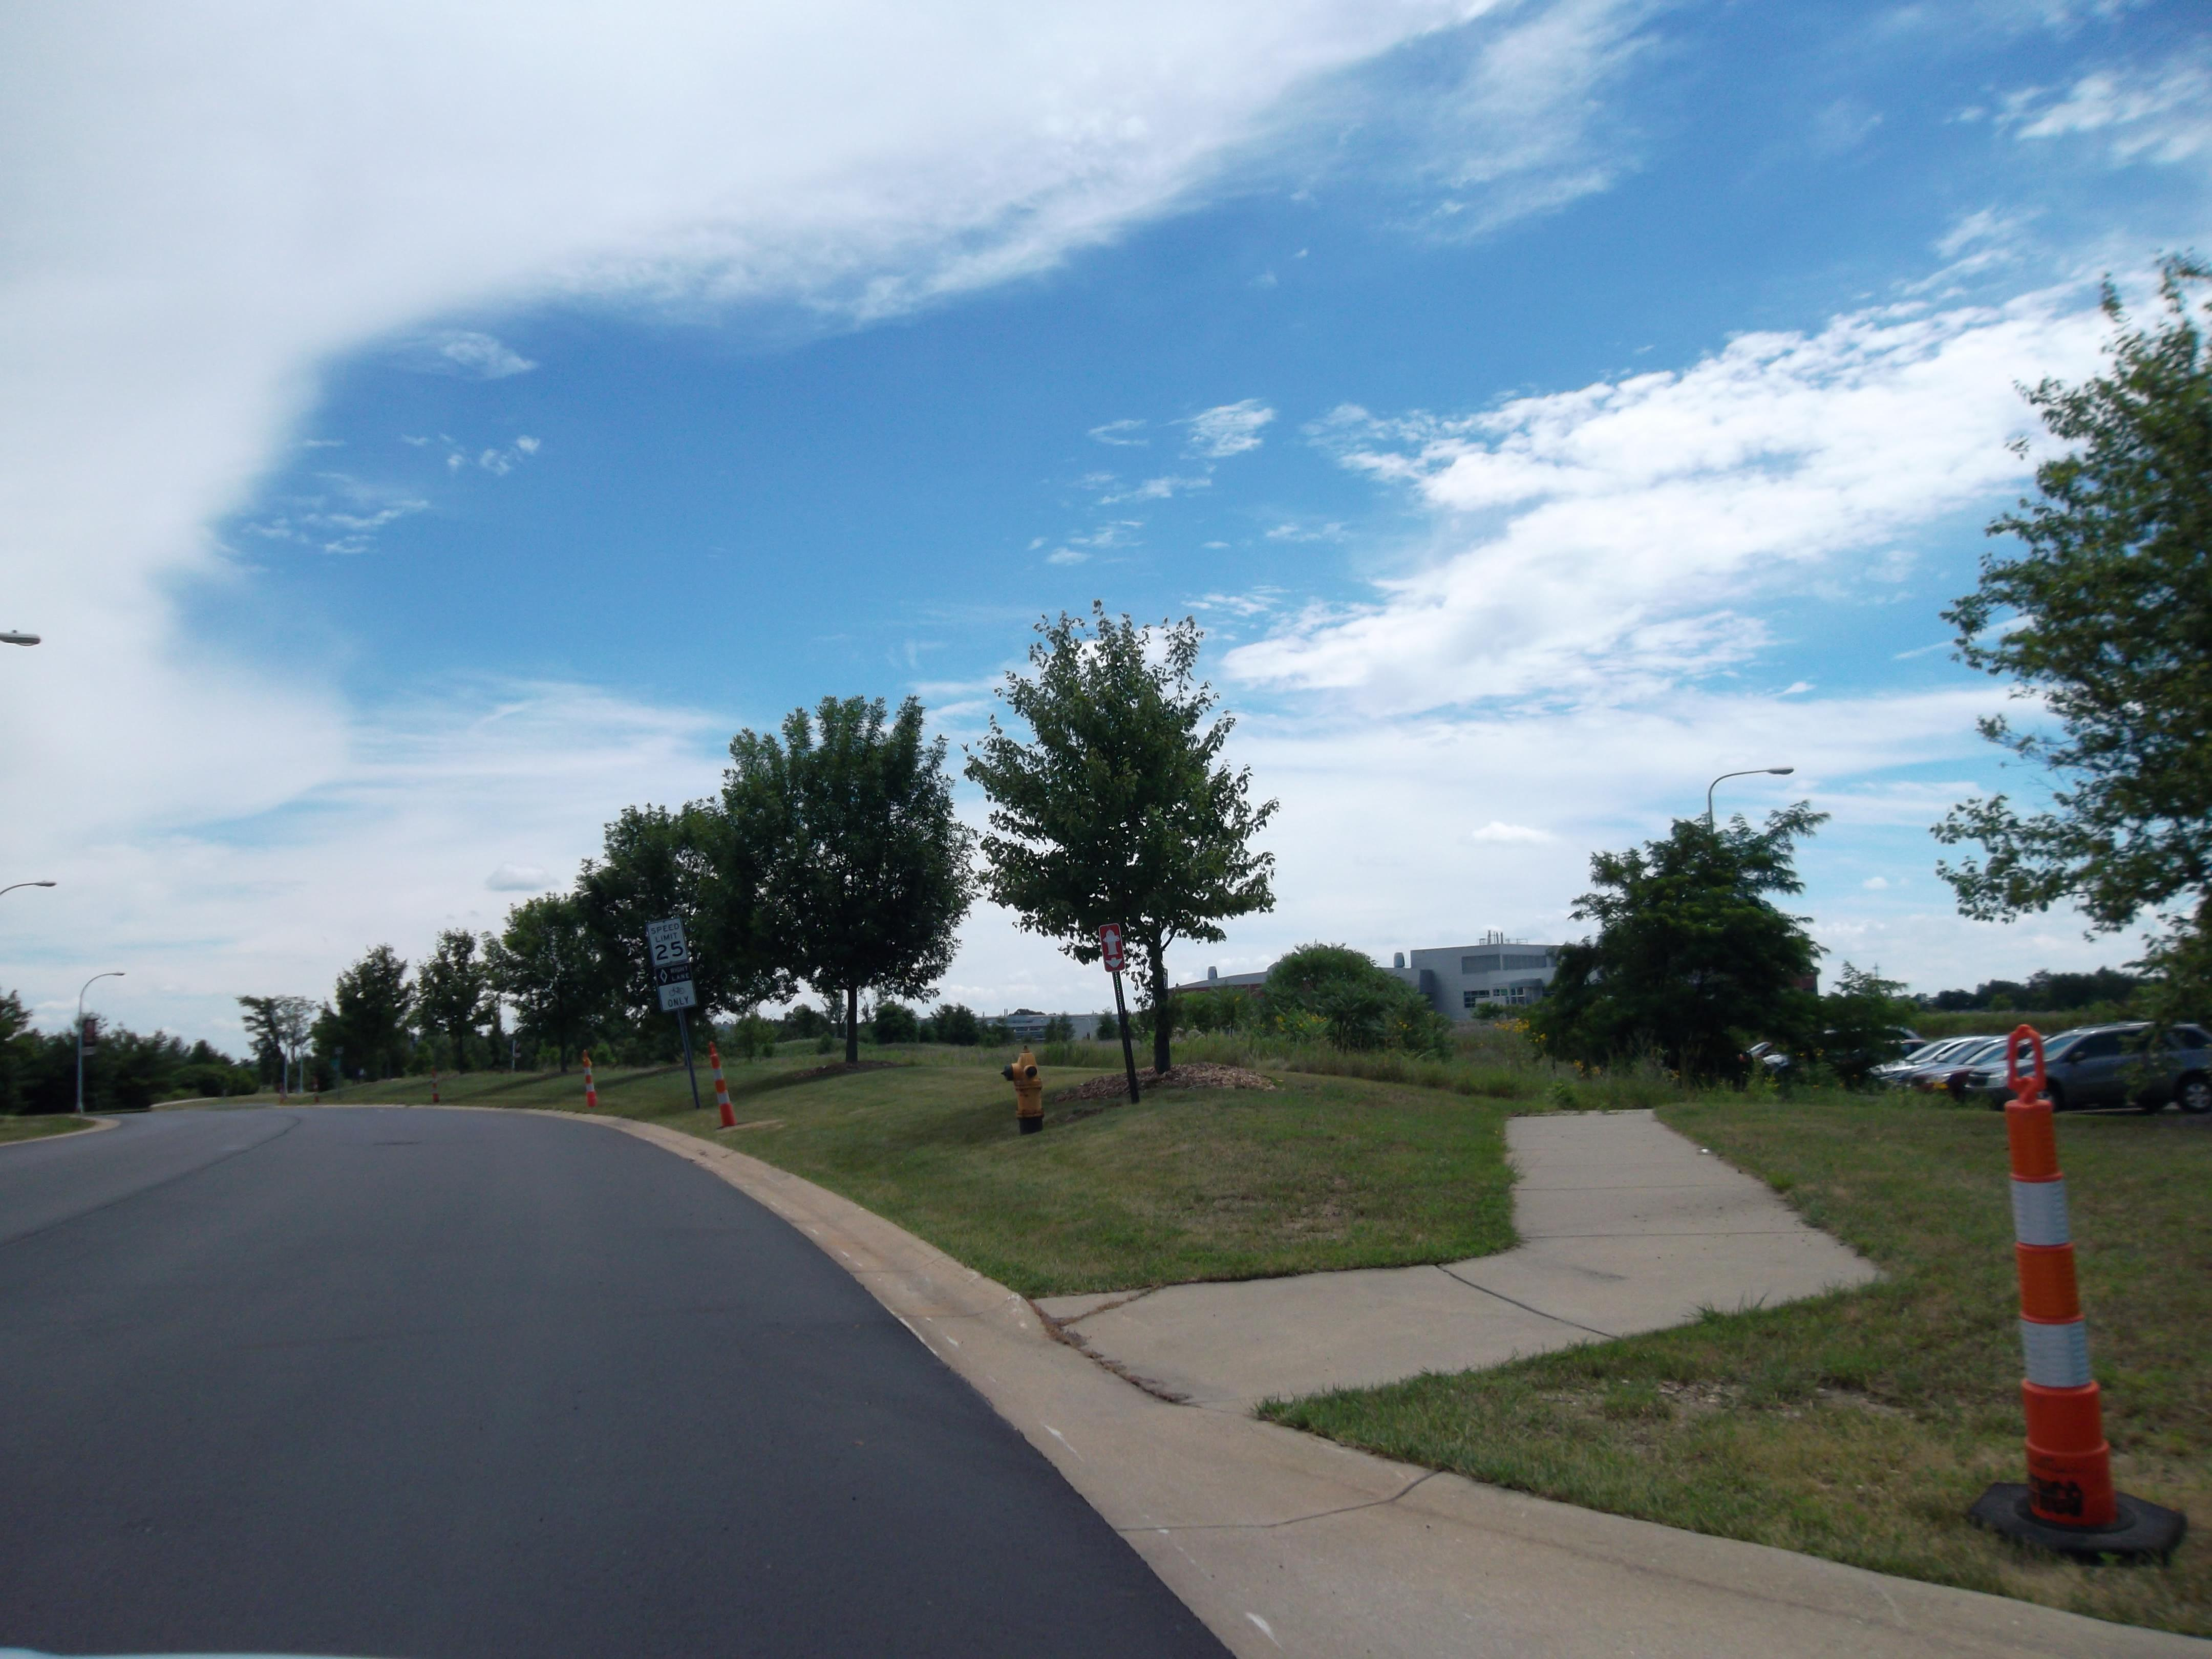regulatory: (643, 913, 698, 971), (655, 957, 697, 1021)
